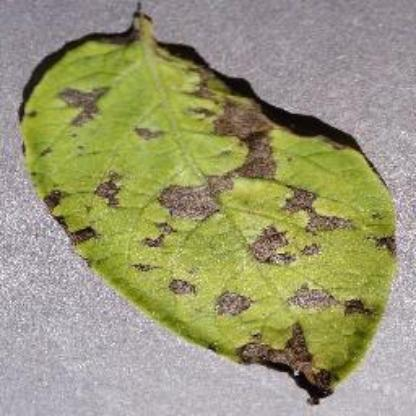Early-Blight: (21, 3, 393, 404)
